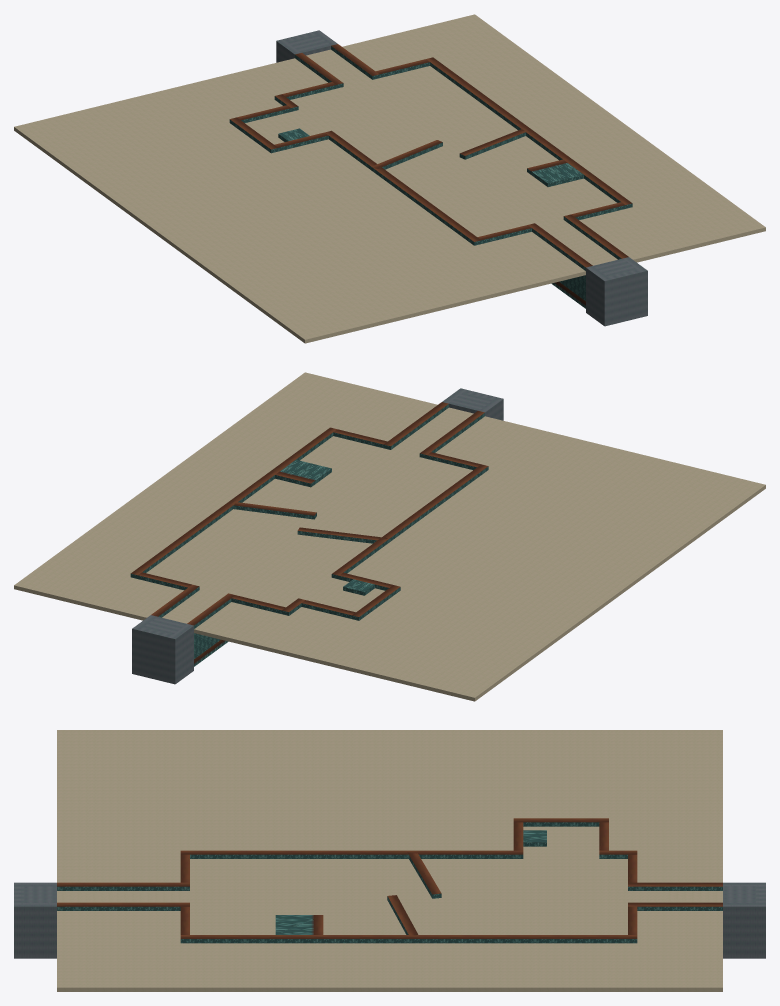
File: dust.fbx
The picture shows the model from 3 angles, top to bottom: view 1: azimuth 30°, elevation 25°; view 2: azimuth 150°, elevation 25°; view 3: azimuth 270°, elevation 25°; orthographic projection. The views are drawn at different scales.
Visible parts, largest first — view 1: Cube.032, Cube.005, Cube.040, Cube.020, Cube, Cube.002, Cube.022, Cube.007, Cube.001, Cube.029, Cube.021, Cube.041 (+1 smaller); view 2: Cube.032, Cube.014, Cube.040, Cube.020, Cube.002, Cube.031, Cube.022, Cube.015, Cube.001, Cube, Cube.021, Cube.041 (+1 smaller); view 3: Cube.032, Cube.040, Cube.020, Cube.006, Cube.016, Cube.002, Cube, Cube.001, Cube.022, Cube.031, Cube.030, Cube.026 (+7 smaller).
Boxes of the visible parts, left/top/right/bottom form: Cube.032: left=14, top=14, right=765, bottom=343; Cube.005: left=600, top=267, right=647, bottom=326; Cube.040: left=426, top=57, right=632, bottom=208; Cube.020: left=325, top=130, right=481, bottom=245; Cube: left=528, top=223, right=592, bottom=308; Cube.002: left=543, top=223, right=617, bottom=265; Cube.022: left=527, top=159, right=583, bottom=186; Cube.007: left=586, top=266, right=607, bottom=323; Cube.001: left=563, top=214, right=628, bottom=259; Cube.029: left=306, top=50, right=354, bottom=73; Cube.021: left=459, top=129, right=526, bottom=159; Cube.041: left=372, top=140, right=442, bottom=169; Cube.032: left=14, top=372, right=765, bottom=701; Cube.014: left=132, top=625, right=179, bottom=684; Cube.040: left=130, top=427, right=336, bottom=578; Cube.020: left=331, top=464, right=488, bottom=579; Cube.002: left=395, top=407, right=473, bottom=452; Cube.031: left=187, top=593, right=235, bottom=666; Cube.022: left=275, top=460, right=331, bottom=487; Cube.015: left=173, top=624, right=193, bottom=681; Cube.001: left=383, top=402, right=448, bottom=449; Cube: left=419, top=411, right=484, bottom=458; Cube.021: left=233, top=502, right=316, bottom=519; Cube.041: left=297, top=527, right=387, bottom=543; Cube.032: left=57, top=730, right=722, bottom=991; Cube.040: left=180, top=935, right=637, bottom=943; Cube.020: left=180, top=850, right=523, bottom=858; Cube.006: left=23, top=902, right=56, bottom=958; Cube.016: left=723, top=902, right=756, bottom=958; Cube.002: left=57, top=891, right=180, bottom=902; Cube: left=57, top=882, right=189, bottom=890; Cube.001: left=57, top=902, right=189, bottom=910; Cube.022: left=275, top=915, right=323, bottom=934; Cube.031: left=628, top=882, right=722, bottom=890; Cube.030: left=628, top=902, right=722, bottom=910; Cube.026: left=513, top=818, right=608, bottom=826.
Bounding box in the file's own units: 25600 × 2400 × 31600.
Materials: 4 (4 with a texture image).
